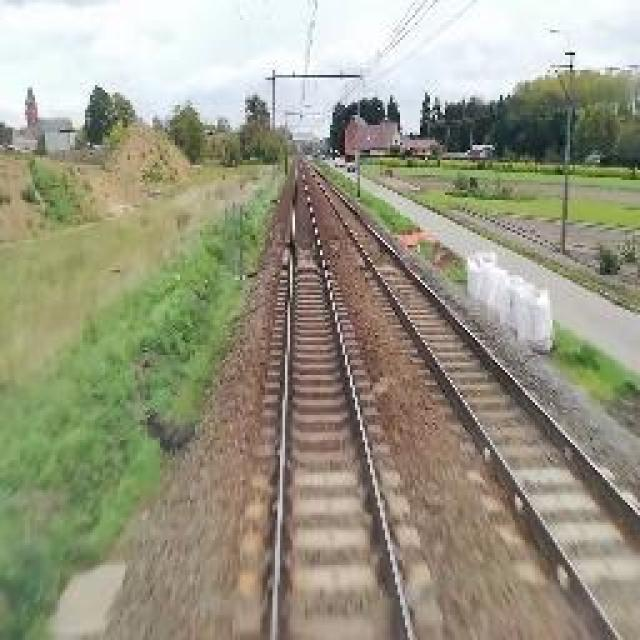rail: (238, 152, 458, 640)
